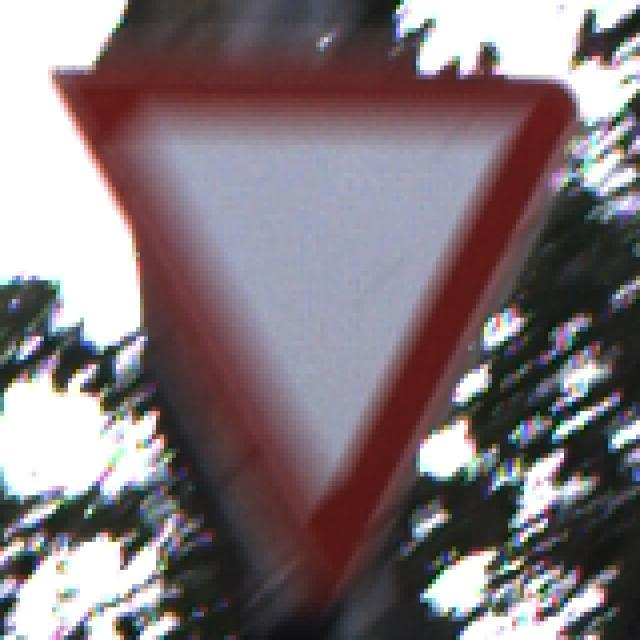give way: (38, 44, 594, 593)
